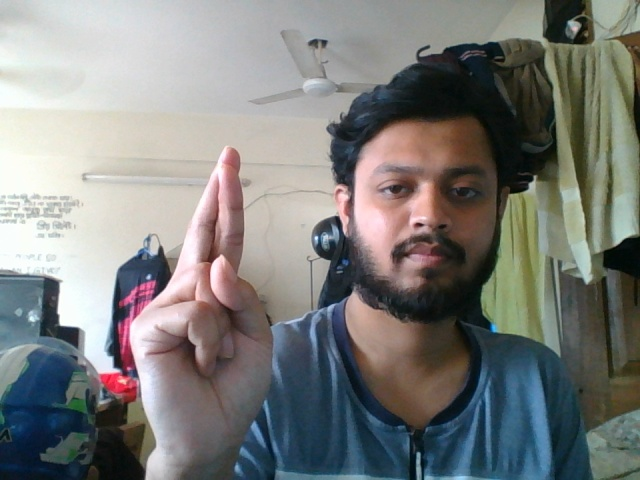r: (130, 144, 283, 471)
